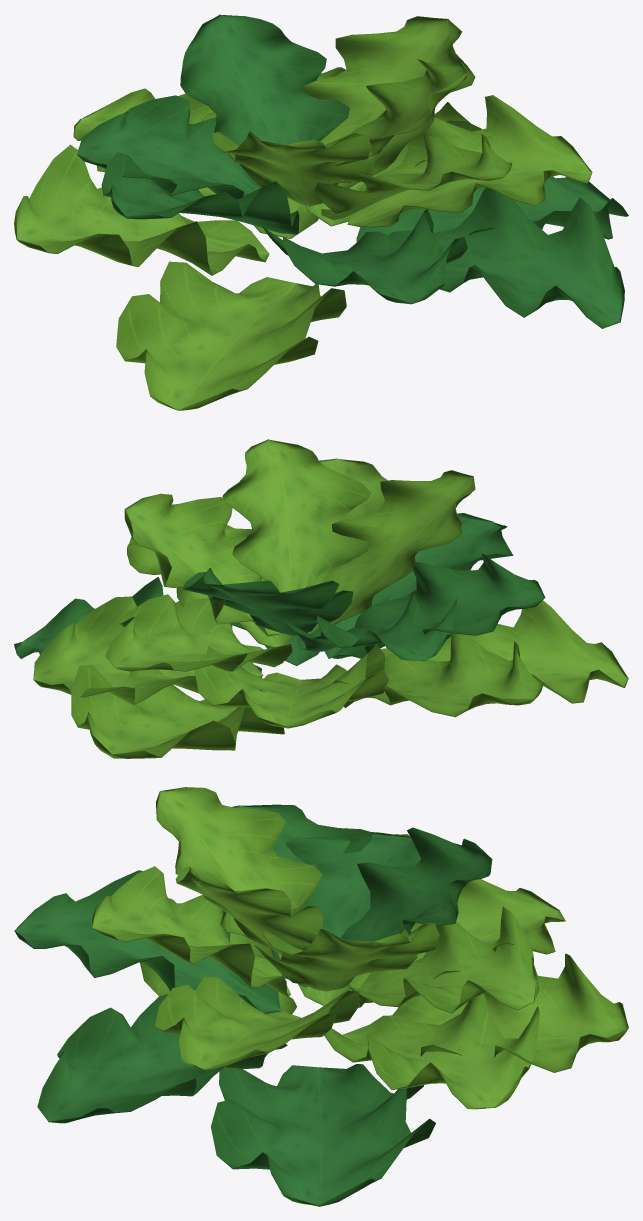
File: lettuce-loose-leaf-mobile.glb
The picture shows the model from 3 angles, top to bottom: view 1: azimuth 30°, elevation 25°; view 2: azimuth 150°, elevation 25°; view 3: azimuth 270°, elevation 25°; orthographic projection. The views are drawn at different scales.
Visible parts, largest first — view 1: Lettuce · Loose leaf; view 2: Lettuce · Loose leaf; view 3: Lettuce · Loose leaf.
Part boxes in pixels (bbox=[...]): Lettuce · Loose leaf: bbox=[14, 14, 628, 410]; Lettuce · Loose leaf: bbox=[14, 439, 628, 758]; Lettuce · Loose leaf: bbox=[14, 787, 628, 1206].
Bounding box in the file's own units: 0.4563 × 0.1747 × 0.4265.
Materials: 2 (2 with a texture image).
